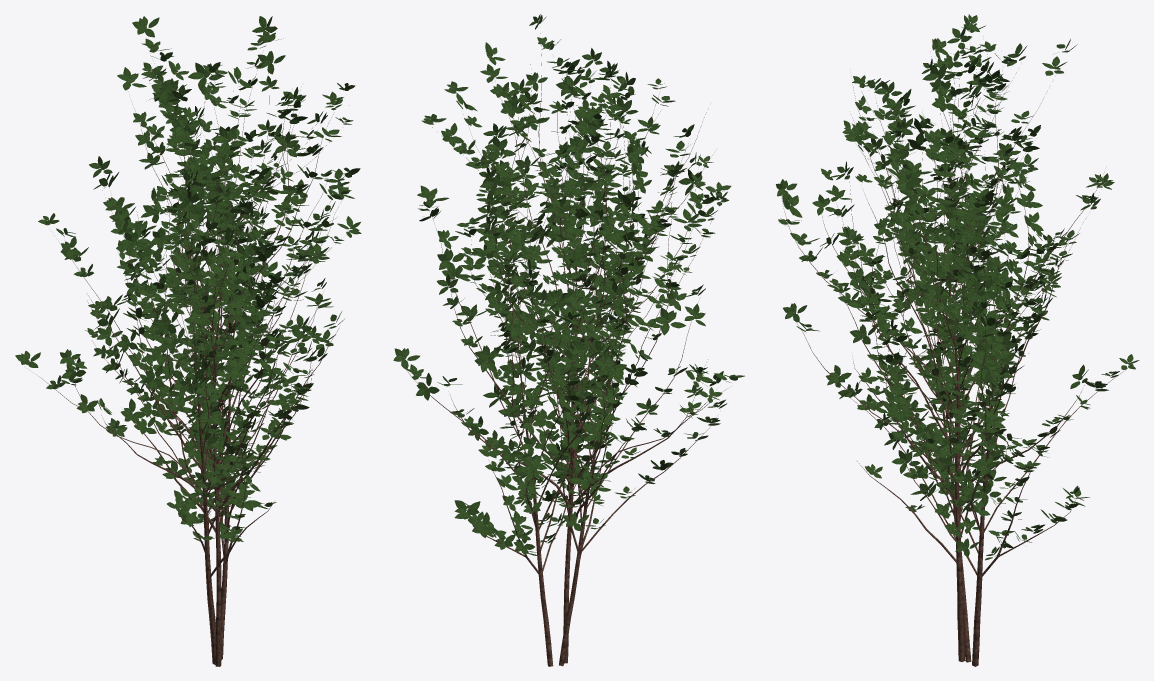
File: kuromoji_nocolor.fbx
The picture shows the model from 3 angles, left to right: view 1: azimuth 30°, elevation 25°; view 2: azimuth 150°, elevation 25°; view 3: azimuth 270°, elevation 25°; orthographic projection.
Parts seen in each view (by area): view 1: Tree.001, Tree, Tree.002; view 2: Tree.001, Tree, Tree.002; view 3: Tree.001, Tree.002, Tree.
Boxes of the visible parts, x1,y1,x2,y2 form: Tree.001: [87, 63, 338, 666]; Tree: [37, 194, 339, 664]; Tree.002: [92, 139, 338, 660]; Tree.001: [432, 33, 712, 663]; Tree: [503, 164, 726, 666]; Tree.002: [406, 150, 616, 666]; Tree.001: [781, 42, 1104, 661]; Tree.002: [895, 165, 1127, 666]; Tree: [795, 129, 1046, 662].
Size of the model in its own units: 203 by 355 by 189.
Materials: 2 (2 with a texture image).
